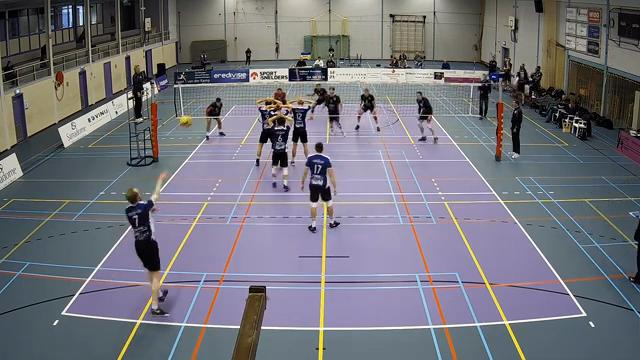Player: (301, 142, 339, 232), (269, 114, 292, 191), (291, 98, 311, 165), (255, 98, 274, 165), (355, 88, 379, 131), (417, 92, 437, 142), (325, 87, 345, 135), (206, 97, 225, 139), (311, 83, 327, 113), (267, 99, 291, 116), (273, 88, 286, 104)
Serve: (123, 167, 174, 320)
ball: (178, 115, 192, 127)
